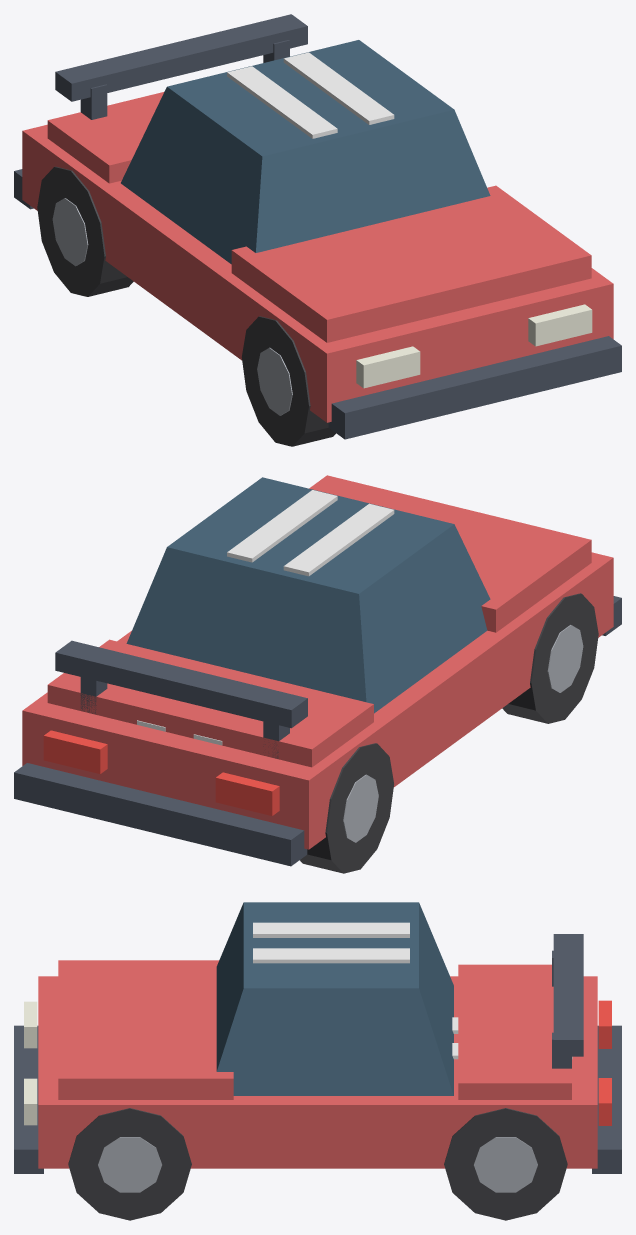
Rendered from player_sports_car.glb.
3 views of the same model, one above another, from view 1: azimuth 30°, elevation 25°; view 2: azimuth 150°, elevation 25°; view 3: azimuth 270°, elevation 25° (orthographic). The views are drawn at different scales.
Visible parts, largest first — view 1: cabin, lower_body, hood, front_bumper, spoiler_bar, rear_deck, wheel_L_rear_tire, wheel_L_front_tire, roof_stripe_+0.18, roof_stripe_-0.18, headlight_-0.55, headlight_+0.55 (+3 smaller); view 2: cabin, lower_body, rear_deck, hood, rear_bumper, spoiler_bar, wheel_L_front_tire, wheel_L_rear_tire, roof_stripe_-0.18, roof_stripe_+0.18, taillight_+0.55, taillight_-0.55 (+3 smaller); view 3: cabin, lower_body, hood, rear_deck, wheel_R_rear_tire, wheel_R_front_tire, spoiler_bar, front_bumper, wheel_R_rear_rim, wheel_R_front_rim, rear_bumper, roof_stripe_-0.18 (+5 smaller).
Boxes of the visible parts, x1=… form: cabin: x1=121, y1=40, x2=490, y2=264; lower_body: x1=22, y1=124, x2=613, y2=422; hood: x1=231, y1=185, x2=591, y2=342; front_bumper: x1=328, y1=336, x2=621, y2=439; spoiler_bar: x1=55, y1=14, x2=307, y2=101; rear_deck: x1=47, y1=92, x2=163, y2=183; wheel_L_rear_tire: x1=37, y1=166, x2=133, y2=296; wheel_L_front_tire: x1=241, y1=316, x2=335, y2=446; roof_stripe_+0.18: x1=283, y1=52, x2=394, y2=124; roof_stripe_-0.18: x1=227, y1=66, x2=337, y2=138; headlight_-0.55: x1=356, y1=346, x2=420, y2=388; headlight_+0.55: x1=528, y1=304, x2=592, y2=346; cabin: x1=126, y1=477, x2=490, y2=713; lower_body: x1=22, y1=552, x2=613, y2=849; rear_deck: x1=47, y1=639, x2=373, y2=767; hood: x1=309, y1=475, x2=591, y2=632; rear_bumper: x1=14, y1=763, x2=307, y2=866; spoiler_bar: x1=55, y1=640, x2=307, y2=728; wheel_L_front_tire: x1=502, y1=593, x2=598, y2=723; wheel_L_rear_tire: x1=300, y1=743, x2=393, y2=873; roof_stripe_-0.18: x1=283, y1=503, x2=394, y2=576; roof_stripe_+0.18: x1=227, y1=490, x2=337, y2=562; taillight_+0.55: x1=43, y1=730, x2=107, y2=773; taillight_-0.55: x1=215, y1=772, x2=279, y2=815; cabin: x1=216, y1=902, x2=453, y2=1095; lower_body: x1=38, y1=976, x2=597, y2=1168; hood: x1=58, y1=960, x2=233, y2=1099; rear_deck: x1=458, y1=964, x2=571, y2=1099; wheel_R_rear_tire: x1=444, y1=1108, x2=567, y2=1220; wheel_R_front_tire: x1=68, y1=1108, x2=191, y2=1220; spoiler_bar: x1=553, y1=934, x2=583, y2=1056; front_bumper: x1=14, y1=1025, x2=43, y2=1173; wheel_R_rear_rim: x1=474, y1=1137, x2=537, y2=1192; wheel_R_front_rim: x1=98, y1=1137, x2=161, y2=1192; rear_bumper: x1=592, y1=1025, x2=621, y2=1173; roof_stripe_-0.18: x1=253, y1=922, x2=409, y2=937.
Size of the model in its own units: 1.85 by 1.42 by 3.64.
